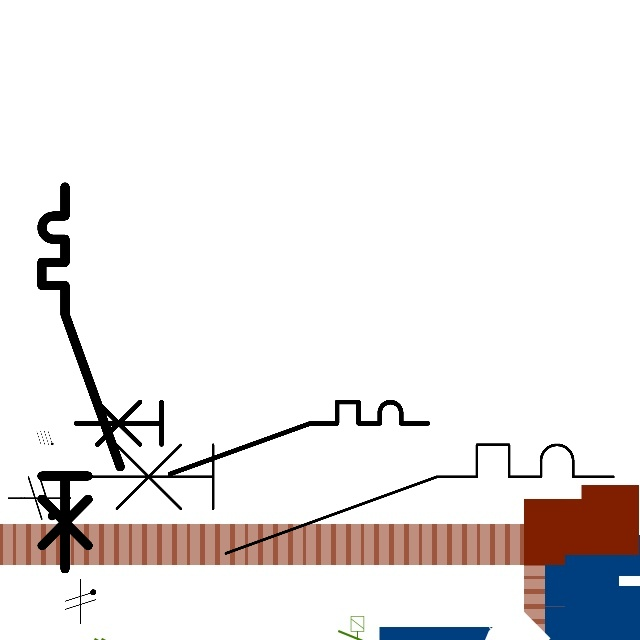interruptor_termomagnetico: (70, 431, 626, 567), (32, 177, 130, 578), (66, 393, 436, 483)
